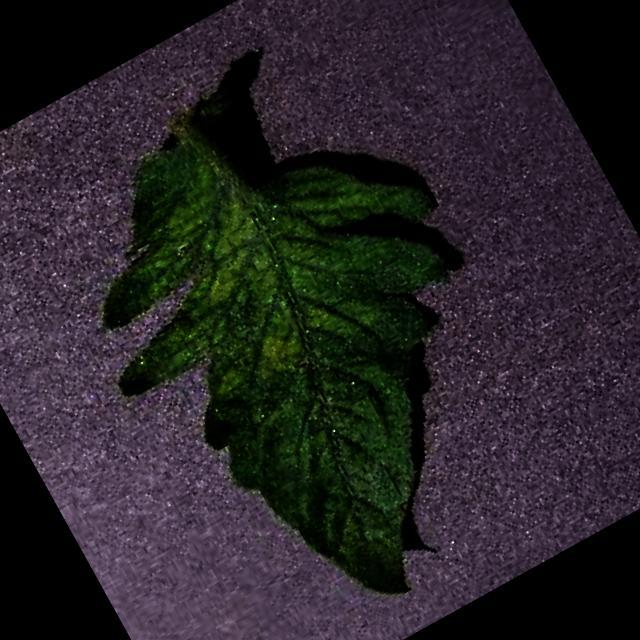Tomato mosaic virus leaf: (21, 37, 599, 640)
